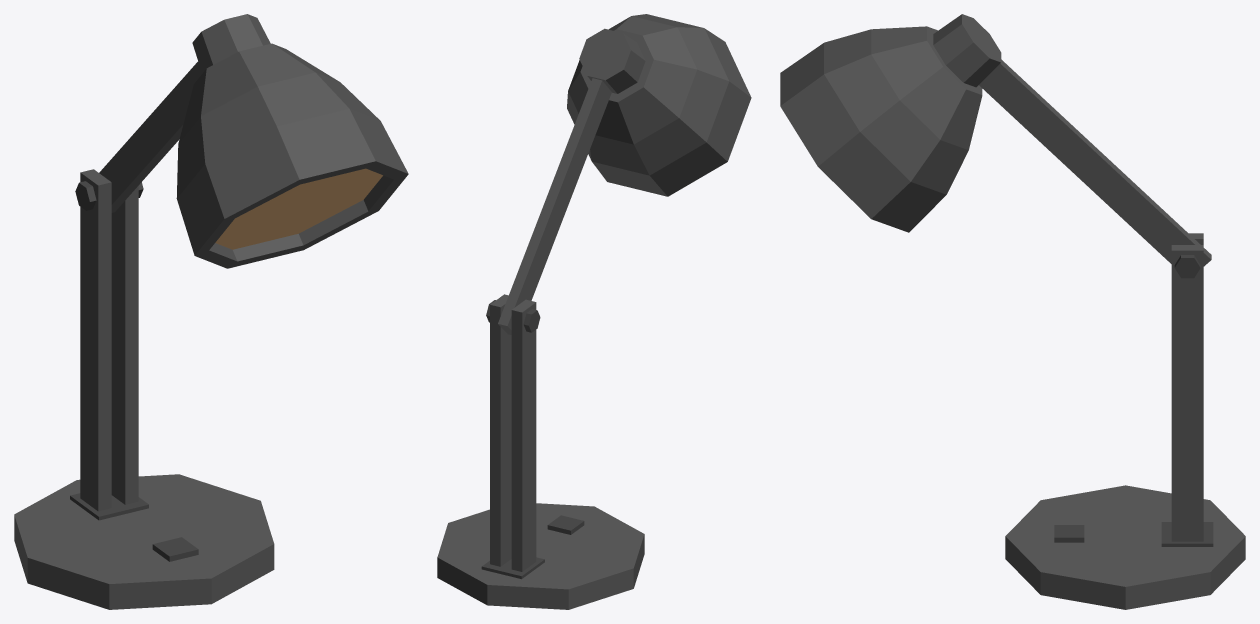
The model's file is Light_14.fbx.
The picture shows the model from 3 angles, left to right: view 1: azimuth 30°, elevation 25°; view 2: azimuth 150°, elevation 25°; view 3: azimuth 270°, elevation 25°; orthographic projection. The views are drawn at different scales.
Parts seen in each view (by area): view 1: Light_14; view 2: Light_14; view 3: Light_14.
Part boxes in pixels (x1,y1,x2,y2): Light_14: (14, 14, 408, 609); Light_14: (437, 14, 751, 609); Light_14: (780, 14, 1245, 609).
Size of the model in its own units: 13.26 by 32.88 by 25.69.
